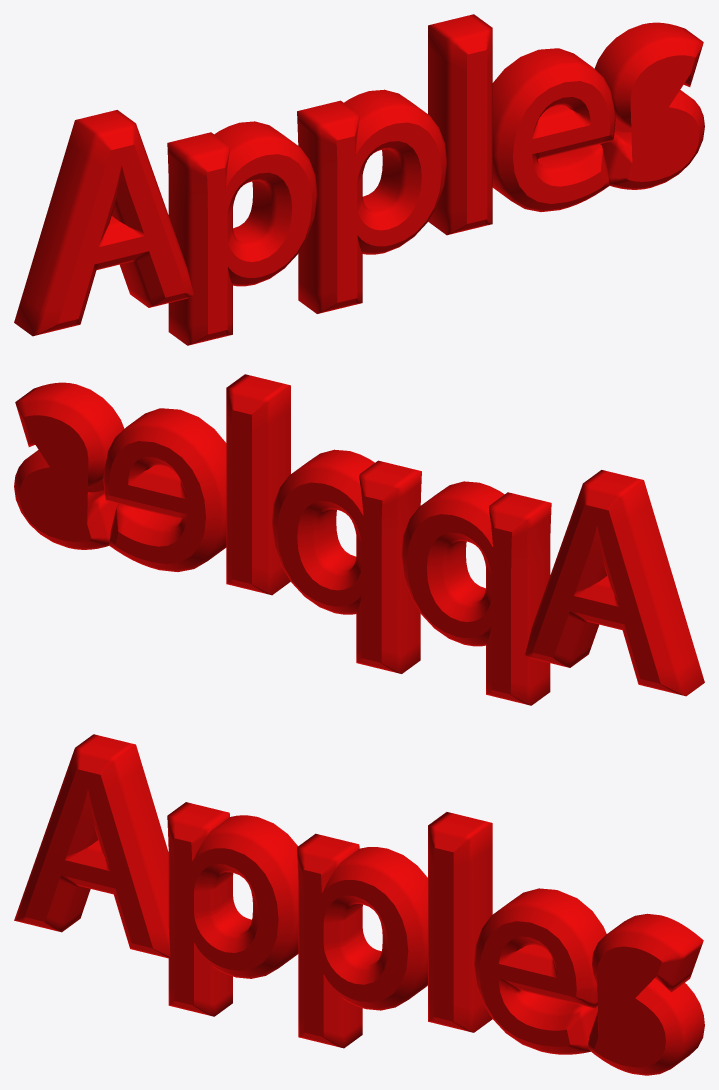
Rendered from apples.fbx.
3 views of the same model, one above another, from view 1: azimuth 30°, elevation 25°; view 2: azimuth 150°, elevation 25°; view 3: azimuth 330°, elevation 25° (orthographic).
Parts seen in each view (by area): view 1: bevelPolygon1, bevelPolygon2, bevelPolygon3, bevelPolygon5, bevelPolygon6, bevelPolygon4; view 2: bevelPolygon1, bevelPolygon2, bevelPolygon3, bevelPolygon5, bevelPolygon6, bevelPolygon4; view 3: bevelPolygon2, bevelPolygon3, bevelPolygon1, bevelPolygon5, bevelPolygon6, bevelPolygon4.
Part boxes in pixels (x1,y1,x2,y2): bevelPolygon1: (14,110,193,336); bevelPolygon2: (167,121,317,345); bevelPolygon3: (297,89,446,313); bevelPolygon5: (492,48,615,211); bevelPolygon6: (594,22,704,189); bevelPolygon4: (428,14,492,235); bevelPolygon1: (525,470,704,696); bevelPolygon2: (401,481,551,705); bevelPolygon3: (272,449,421,673); bevelPolygon5: (103,408,226,571); bevelPolygon6: (14,382,124,549); bevelPolygon4: (226,374,290,595); bevelPolygon2: (167,802,298,1016); bevelPolygon3: (297,833,428,1048); bevelPolygon1: (14,734,170,958); bevelPolygon5: (474,888,606,1054); bevelPolygon6: (587,913,704,1075); bevelPolygon4: (428,812,492,1032).
Size of the model in its own units: 0.052 by 0.018 by 0.0045.
